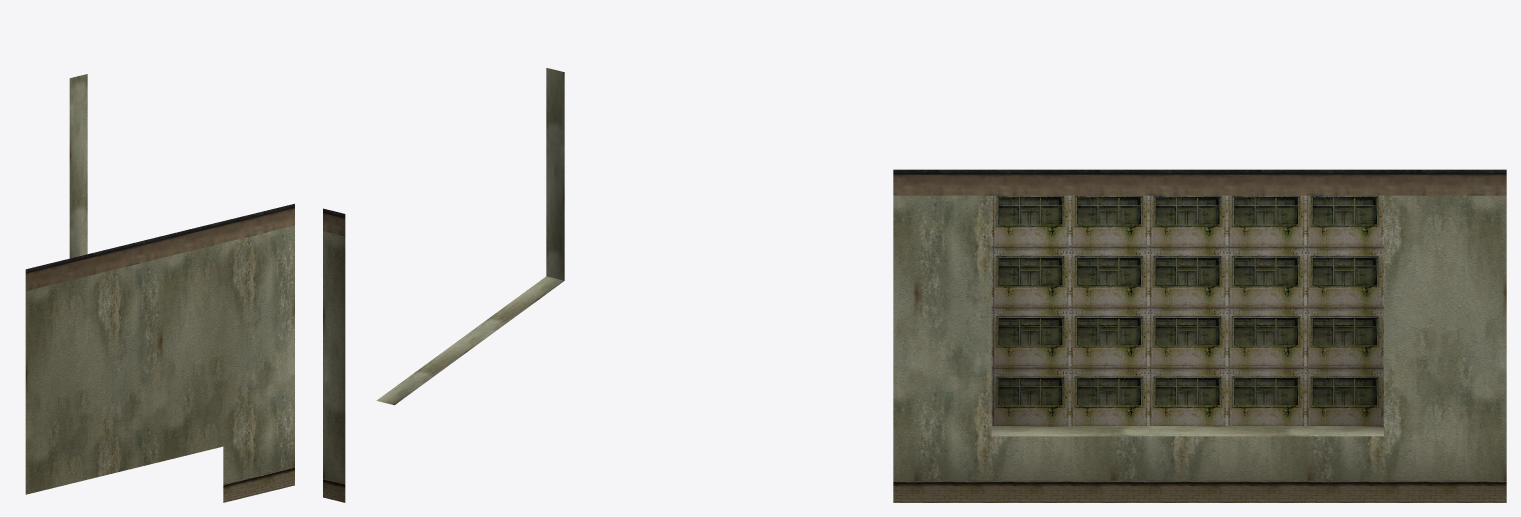
Rendered from M10_Z2_NewBuild04.glb.
3 renders of one model, left to right at view 1: azimuth 30°, elevation 25°; view 2: azimuth 150°, elevation 25°; view 3: azimuth 270°, elevation 25°, orthographic. The views are drawn at different scales.
Visible parts, largest first — view 1: M10_Z2_NEWBUILD04; view 2: M10_Z2_NEWBUILD04; view 3: M10_Z2_NEWBUILD04.
Part boxes in pixels (<box>): M10_Z2_NEWBUILD04: <box>25,74,294,502</box>; M10_Z2_NEWBUILD04: <box>323,68,564,502</box>; M10_Z2_NEWBUILD04: <box>893,169,1506,502</box>.
Size of the model in its own units: 15 by 15 by 25.
4 materials, 4 textured.
